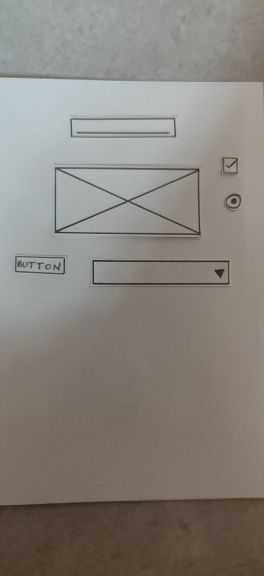button: (11, 252, 69, 279)
checkbox: (217, 153, 242, 179)
dropdown: (85, 253, 235, 291)
img: (50, 162, 205, 240)
radio: (223, 191, 244, 211)
text: (65, 114, 181, 142)
